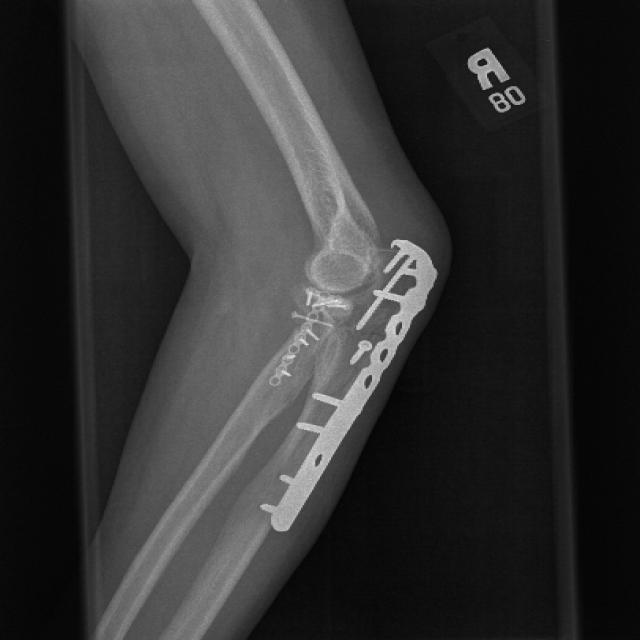elbow positive: (333, 284, 414, 370), (281, 297, 336, 342)
